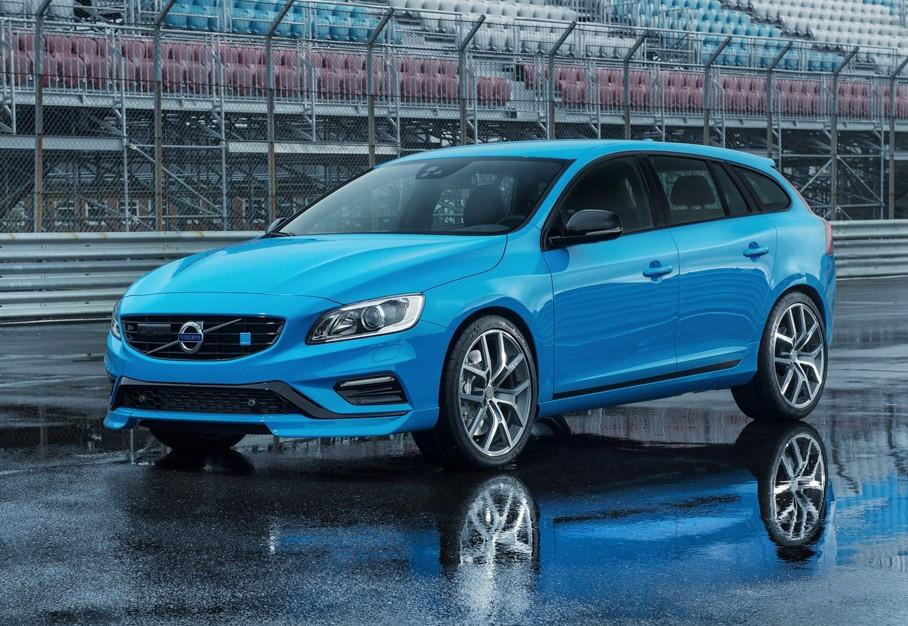Wagon: (102, 138, 836, 474)
